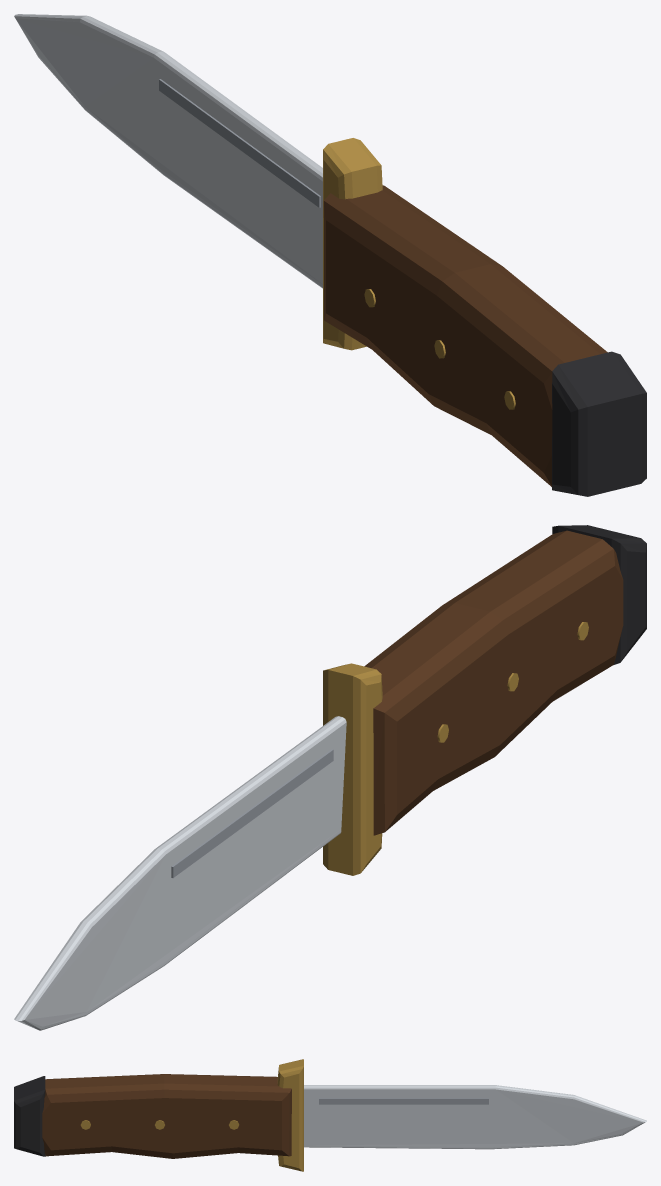
File: knife.glb
3 views of the same model, one above another, from view 1: azimuth 30°, elevation 25°; view 2: azimuth 150°, elevation 25°; view 3: azimuth 270°, elevation 25° (orthographic). The views are drawn at different scales.
Visible parts, largest first — view 1: knife; view 2: knife; view 3: knife.
Part boxes in pixels (left/top/right/bottom): knife: left=14, top=14, right=646, bottom=496; knife: left=14, top=525, right=646, bottom=1030; knife: left=14, top=1059, right=646, bottom=1171.
Size of the model in its own units: 21 by 53.65 by 291.
